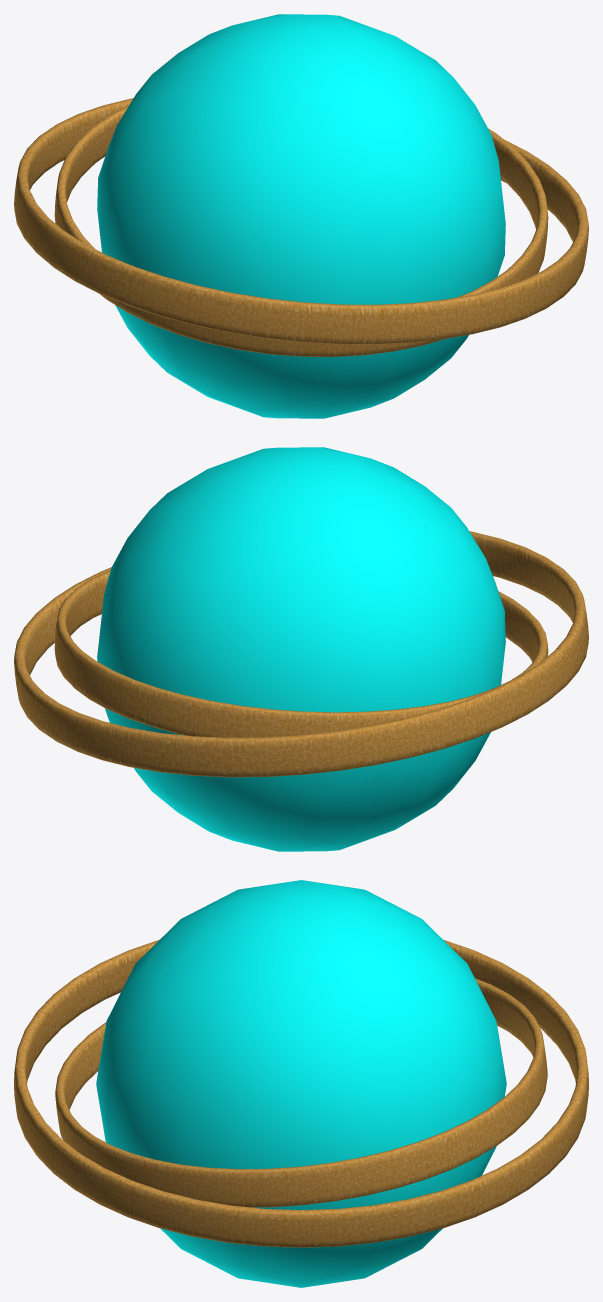
The model's file is soulsphere.fbx.
The picture shows the model from 3 angles, top to bottom: view 1: azimuth 30°, elevation 25°; view 2: azimuth 150°, elevation 25°; view 3: azimuth 270°, elevation 25°; orthographic projection.
Visible parts, largest first — view 1: Icosphere, Circle.001, Circle; view 2: Icosphere, Circle.001, Circle; view 3: Icosphere, Circle.001, Circle.
Boxes of the visible parts, box(x1,y1,x2,y2) form: Icosphere: box(97, 14, 505, 418); Circle.001: box(14, 98, 588, 344); Circle: box(54, 105, 548, 356); Icosphere: box(97, 447, 505, 851); Circle.001: box(14, 531, 588, 777); Circle: box(54, 570, 548, 737); Icosphere: box(96, 880, 506, 1287); Circle.001: box(14, 940, 588, 1247); Circle: box(55, 978, 547, 1207).
Size of the model in its own units: 69.86 by 50 by 70.
Materials: 2 (2 with a texture image).
